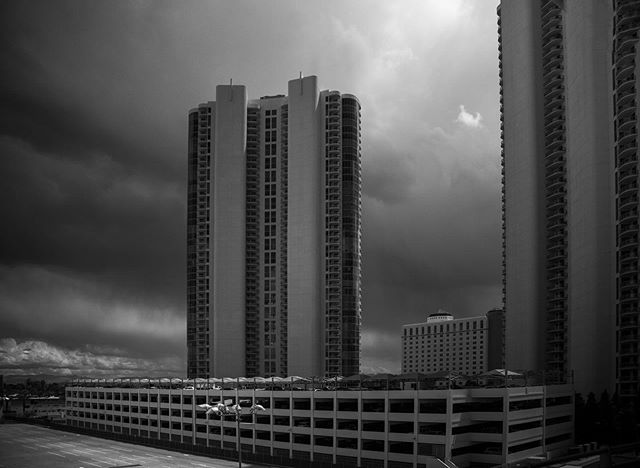building: (185, 85, 364, 374), (503, 1, 640, 375), (65, 371, 579, 457), (396, 311, 502, 374)
sky: (7, 2, 501, 367)
